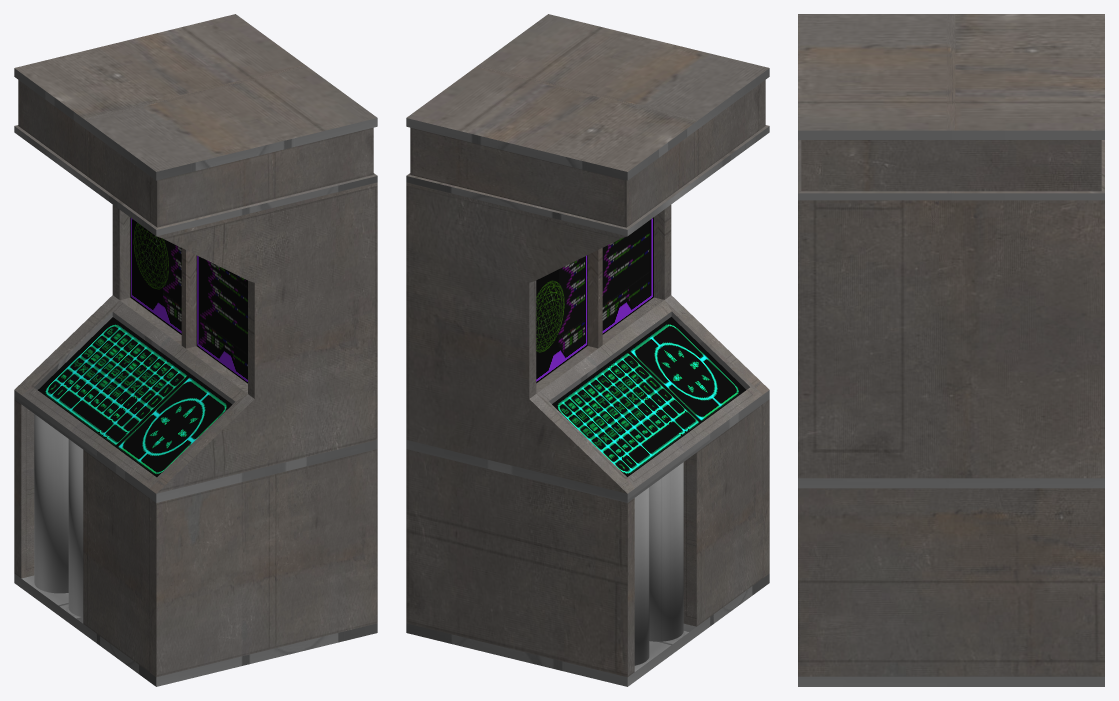
Rendered from wallComputer01.obj.
3 renders of one model, left to right at view 1: azimuth 30°, elevation 25°; view 2: azimuth 150°, elevation 25°; view 3: azimuth 270°, elevation 25°, orthographic. The views are drawn at different scales.
Parts seen in each view (by area): view 1: Cube, Cylinder.001, Cylinder; view 2: Cube, Cylinder, Cylinder.001; view 3: Cube.
Boxes of the visible parts, x1,y1,x2,y2 form: Cube: [14, 14, 377, 686]; Cylinder.001: [34, 414, 68, 593]; Cylinder: [68, 439, 83, 617]; Cube: [406, 14, 769, 686]; Cylinder: [649, 462, 683, 641]; Cylinder.001: [634, 487, 649, 665]; Cube: [798, 14, 1104, 686].
Size of the model in its own units: 1.8 by 4 by 2.
Materials: 6 (6 with a texture image).
